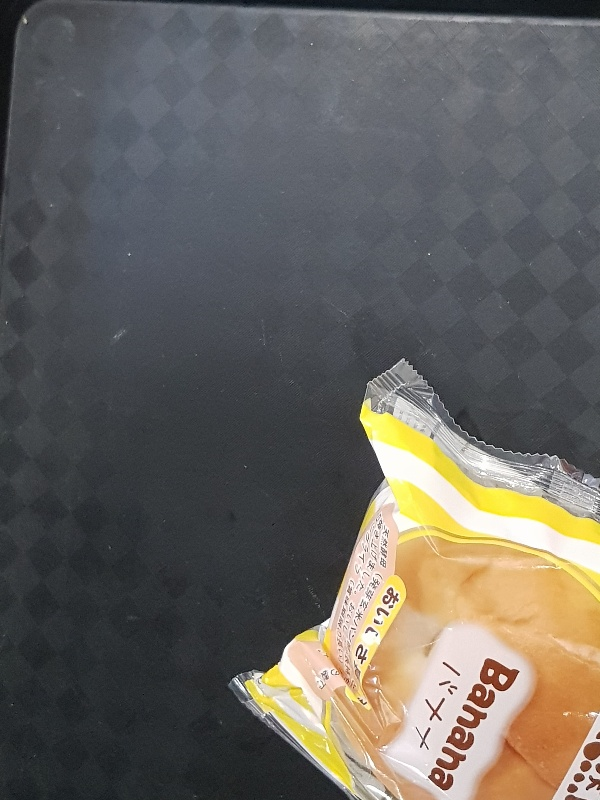Dayplus Banana: (223, 354, 600, 796)
